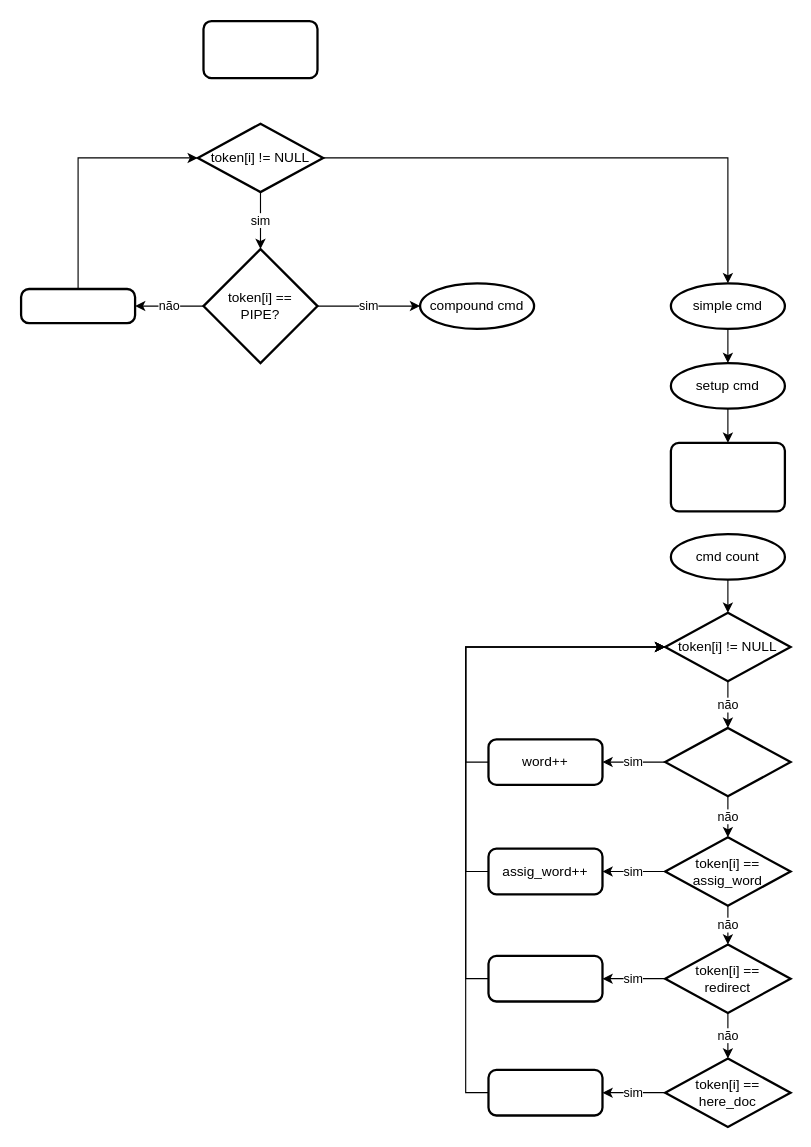
Some shapes in this 811 by 1147 pixel diagram are drawn without their labels. The shapes that lost their labels are listed below. From the top down, each one's centre as x and y in pixels, then its label:
(x=260, y=49): token recognition
(x=77, y=305): i++;
(x=727, y=476): word = 0 assig_word = 0 redirect = 0 here_doc = 0
(x=727, y=761): token[i] == word
(x=545, y=978): redirect++
(x=545, y=1092): here_doc++
